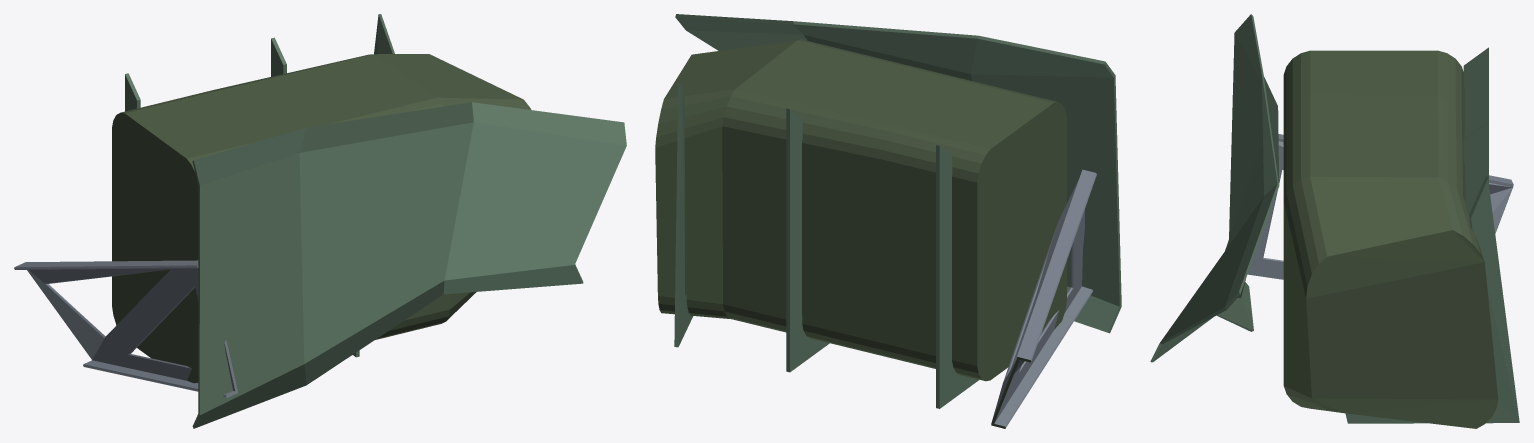
Rendered from Track_full_003_track_002.fbx.
3 renders of one model, left to right at view 1: azimuth 30°, elevation 25°; view 2: azimuth 150°, elevation 25°; view 3: azimuth 270°, elevation 25°, orthographic. The views are drawn at different scales.
Parts seen in each view (by area): view 1: Track_full.003.track.002; view 2: Track_full.003.track.002; view 3: Track_full.003.track.002.
Boxes of the visible parts, <box> form: Track_full.003.track.002: <box>14,14,626,428</box>; Track_full.003.track.002: <box>655,14,1121,428</box>; Track_full.003.track.002: <box>1150,14,1519,428</box>.
Bounding box in the file's own units: 1.85 × 1.04 × 1.2.
